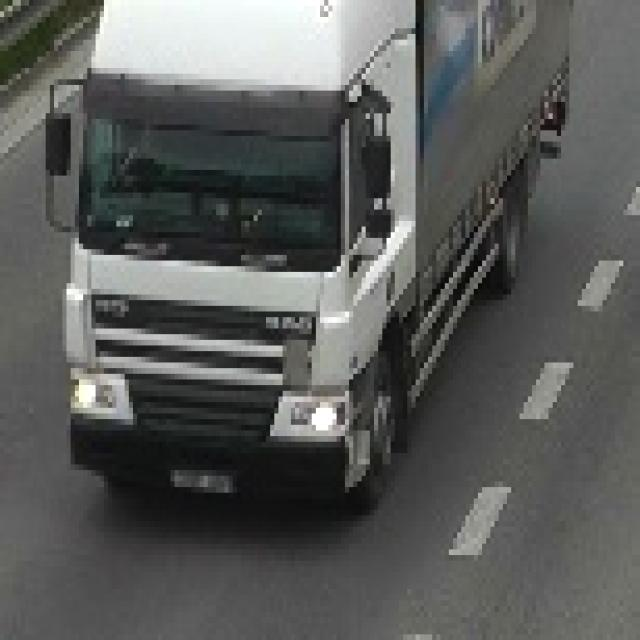truck: (47, 1, 570, 511)
